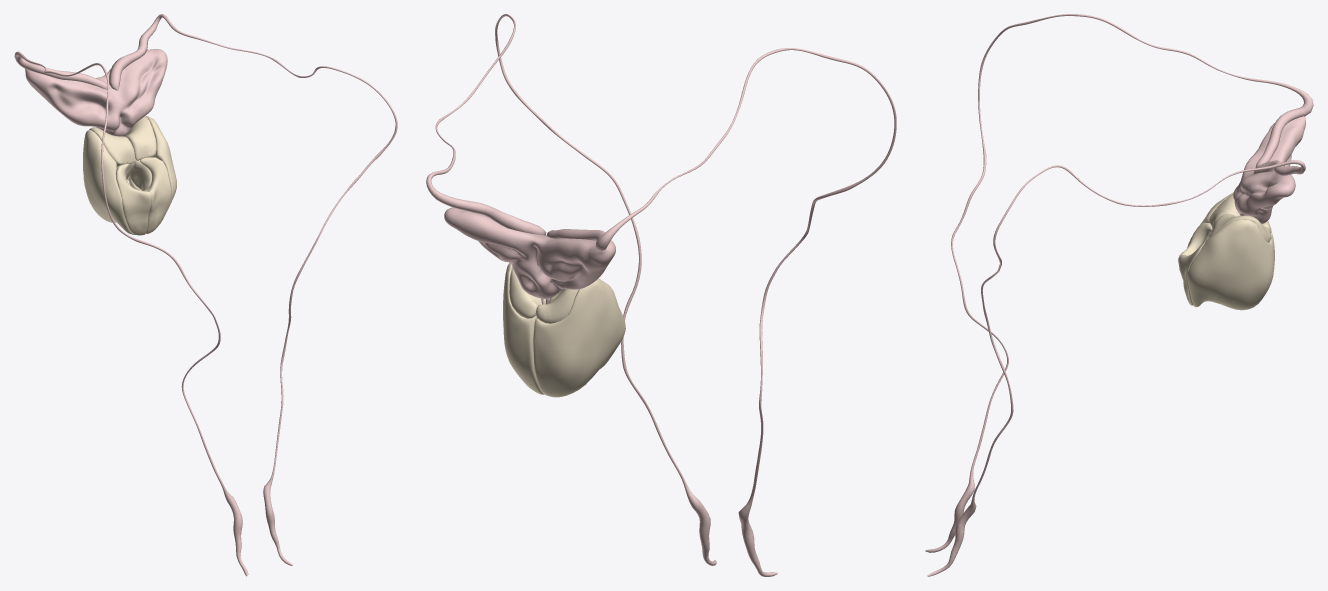
Rendered from 3d-vh-m-prostate.glb.
3 renders of one model, left to right at view 1: azimuth 30°, elevation 25°; view 2: azimuth 150°, elevation 25°; view 3: azimuth 270°, elevation 25°, orthographic. The views are drawn at different scales.
Visible parts, largest first — view 1: VH_M_seminal_vesicle, VH_M_vas_deferens_R, VH_M_vas_deferens_L, VH_M_peripheral_zone_of_prostate_R, VH_M_anterior_fibromuscular_stroma_R, VH_M_anterior_fibromuscular_stroma_L, VH_M_central_zone_of_prostate_L, VH_M_peripheral_zone_of_prostate_L, VH_M_base_of_prostate, VH_M_central_zone_of_prostate_R; view 2: VH_M_peripheral_zone_of_prostate_R, VH_M_seminal_vesicle, VH_M_vas_deferens_R, VH_M_vas_deferens_L, VH_M_peripheral_zone_of_prostate_L, VH_M_central_zone_of_prostate_R, VH_M_central_zone_of_prostate_L; view 3: VH_M_peripheral_zone_of_prostate_L, VH_M_vas_deferens_L, VH_M_seminal_vesicle, VH_M_vas_deferens_R, VH_M_central_zone_of_prostate_L.
Part boxes in pixels (left/top/right/bottom): VH_M_seminal_vesicle: left=25, top=49, right=167, bottom=136; VH_M_vas_deferens_R: left=109, top=14, right=397, bottom=565; VH_M_vas_deferens_L: left=14, top=51, right=248, bottom=576; VH_M_peripheral_zone_of_prostate_R: left=83, top=130, right=135, bottom=234; VH_M_anterior_fibromuscular_stroma_R: left=116, top=163, right=151, bottom=235; VH_M_anterior_fibromuscular_stroma_L: left=140, top=157, right=171, bottom=233; VH_M_central_zone_of_prostate_L: left=124, top=116, right=156, bottom=160; VH_M_peripheral_zone_of_prostate_L: left=127, top=116, right=176, bottom=224; VH_M_base_of_prostate: left=111, top=146, right=167, bottom=205; VH_M_central_zone_of_prostate_R: left=89, top=127, right=135, bottom=166; VH_M_peripheral_zone_of_prostate_R: left=533, top=278, right=625, bottom=397; VH_M_seminal_vesicle: left=444, top=207, right=615, bottom=298; VH_M_vas_deferens_R: left=426, top=14, right=716, bottom=565; VH_M_vas_deferens_L: left=546, top=48, right=896, bottom=576; VH_M_peripheral_zone_of_prostate_L: left=503, top=263, right=543, bottom=394; VH_M_central_zone_of_prostate_R: left=536, top=288, right=578, bottom=323; VH_M_central_zone_of_prostate_L: left=509, top=267, right=550, bottom=318; VH_M_peripheral_zone_of_prostate_L: left=1187, top=219, right=1274, bottom=310; VH_M_vas_deferens_L: left=925, top=14, right=1313, bottom=552; VH_M_seminal_vesicle: left=1233, top=116, right=1305, bottom=223; VH_M_vas_deferens_R: left=927, top=160, right=1305, bottom=576; VH_M_central_zone_of_prostate_L: left=1209, top=214, right=1271, bottom=242.
Size of the model in its own units: 0.1167 by 0.1755 by 0.1229.
